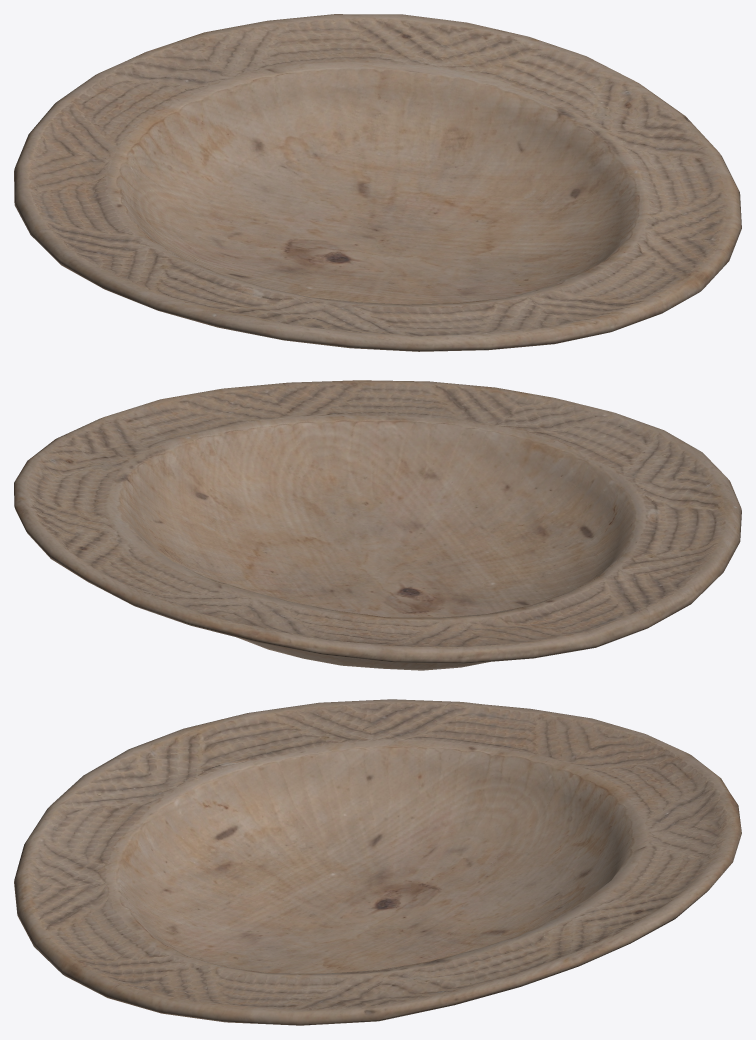
Rendered from carved_wooden_plate.glb.
3 views of the same model, one above another, from view 1: azimuth 30°, elevation 25°; view 2: azimuth 150°, elevation 25°; view 3: azimuth 270°, elevation 25° (orthographic). The views are drawn at different scales.
Visible parts, largest first — view 1: carved_wooden_plate; view 2: carved_wooden_plate; view 3: carved_wooden_plate.
Boxes of the visible parts, left/top/right/bottom form: carved_wooden_plate: left=14, top=14, right=741, bottom=351; carved_wooden_plate: left=14, top=380, right=741, bottom=670; carved_wooden_plate: left=14, top=699, right=741, bottom=1025.
Bounding box in the file's own units: 0.2718 × 0.0474 × 0.268.
Materials: 1 (1 with a texture image).
